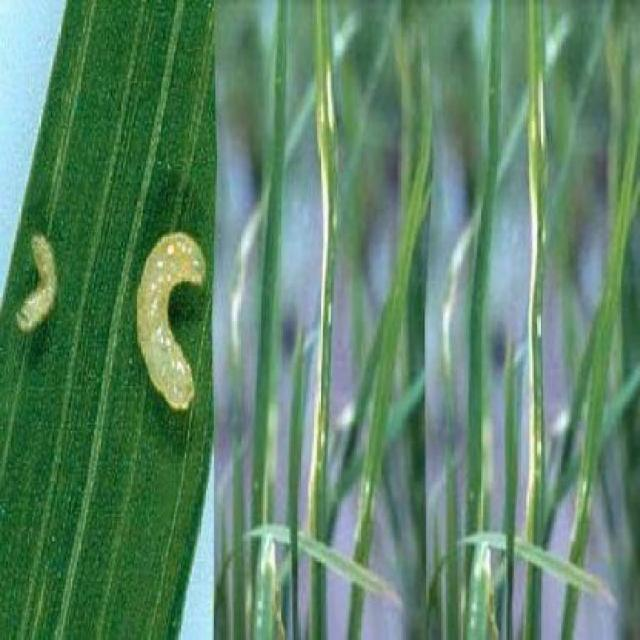whorl-maggot: (126, 228, 208, 423), (14, 226, 60, 342)
